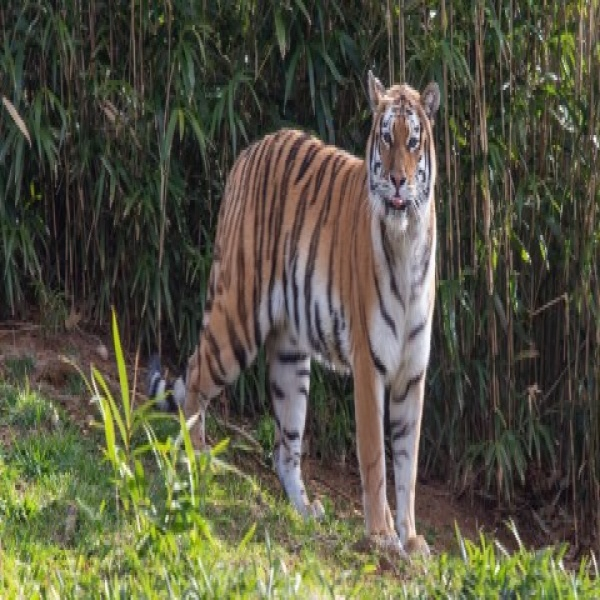Tiger: (151, 65, 443, 556)
